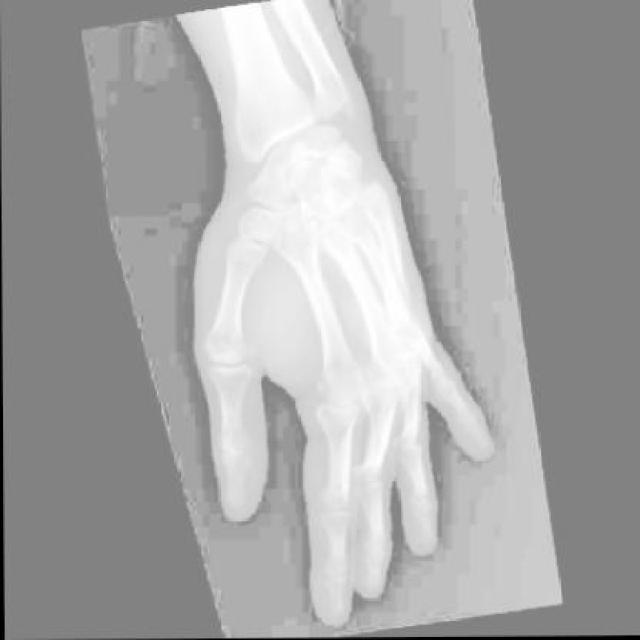Fracture: (357, 174, 388, 202)
